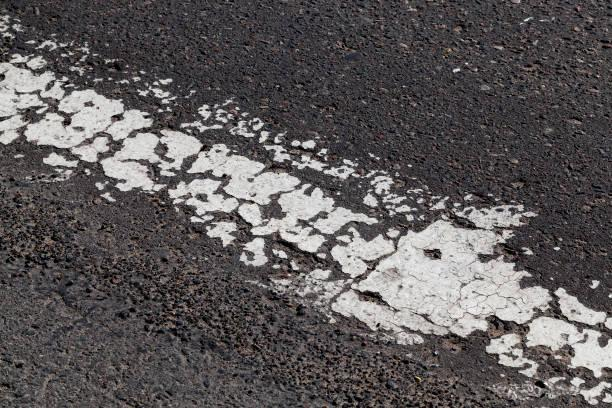faded_road_lines: (0, 7, 612, 408)
